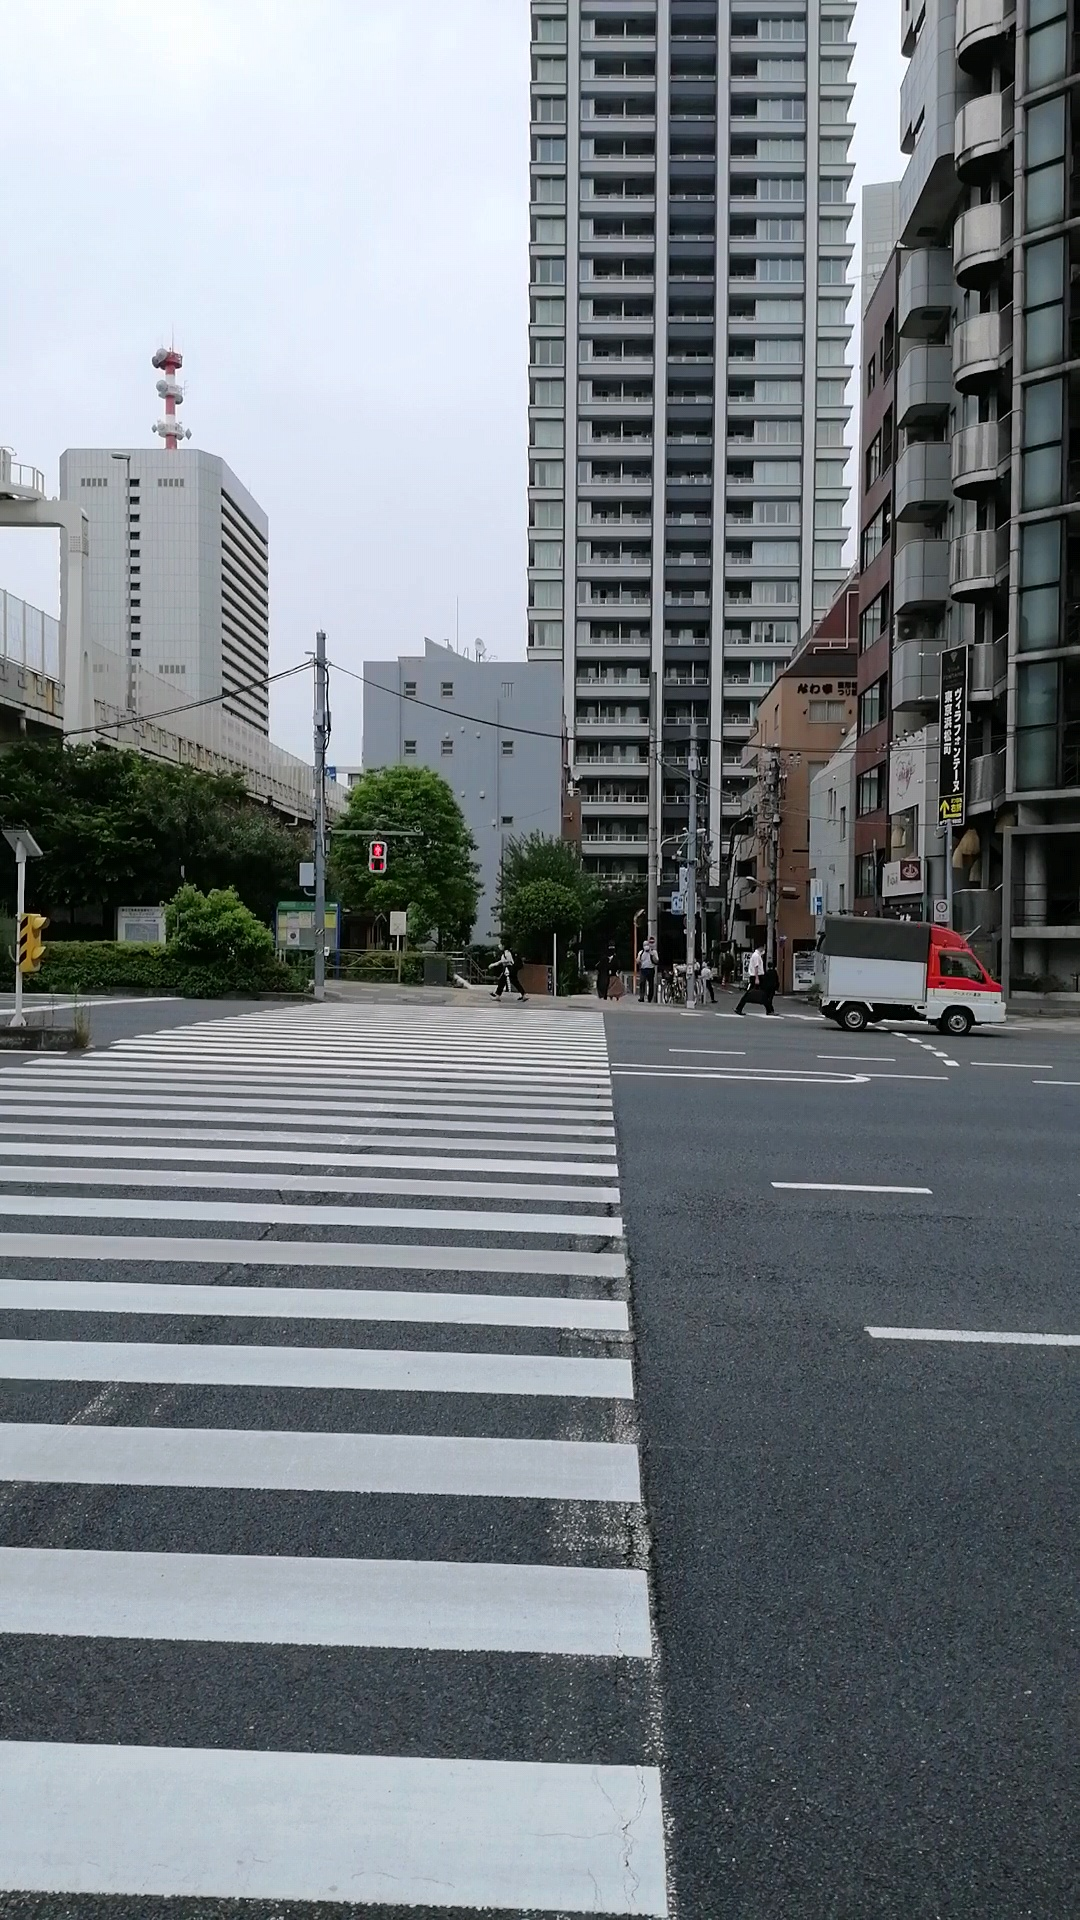red: (367, 840, 386, 873)
